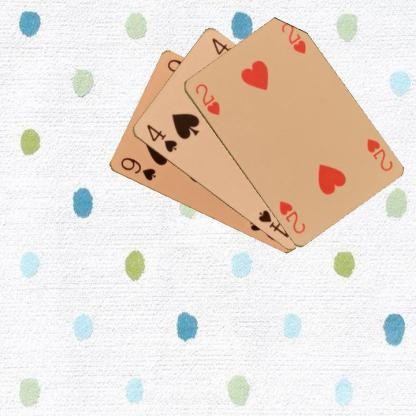2h: (363, 136, 394, 173), (192, 81, 221, 117)
4s: (143, 121, 178, 154)
9s: (117, 155, 157, 182)
